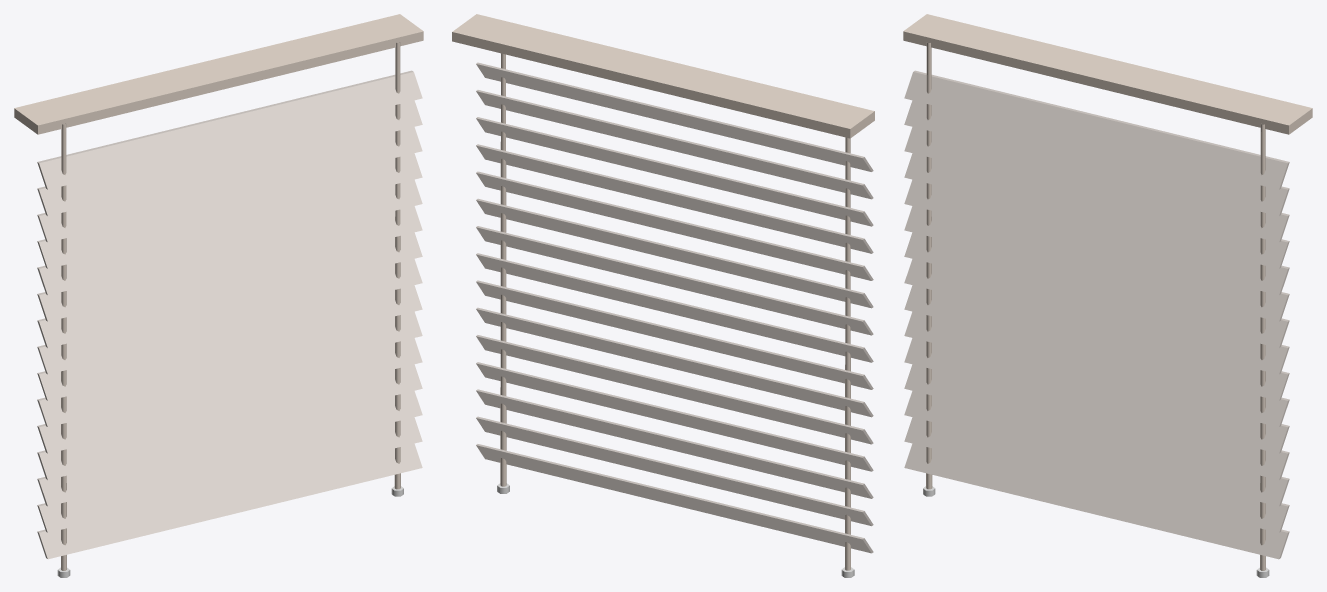
File: blind_A.fbx
3 views of the same model, side by side, from view 1: azimuth 30°, elevation 25°; view 2: azimuth 150°, elevation 25°; view 3: azimuth 330°, elevation 25° (orthographic). The views are drawn at different scales.
Parts seen in each view (by area): view 1: polySurface5.001, polySurface18; view 2: polySurface5.001, polySurface18; view 3: polySurface5.001, polySurface18.
Part boxes in pixels (<box>): polySurface5.001: <box>37,70,422,559</box>; polySurface18: <box>14,14,423,570</box>; polySurface5.001: <box>476,62,873,553</box>; polySurface18: <box>452,14,874,570</box>; polySurface5.001: <box>904,70,1289,559</box>; polySurface18: <box>903,14,1312,570</box>.
Size of the model in its own units: 120 by 136 by 15.24.
